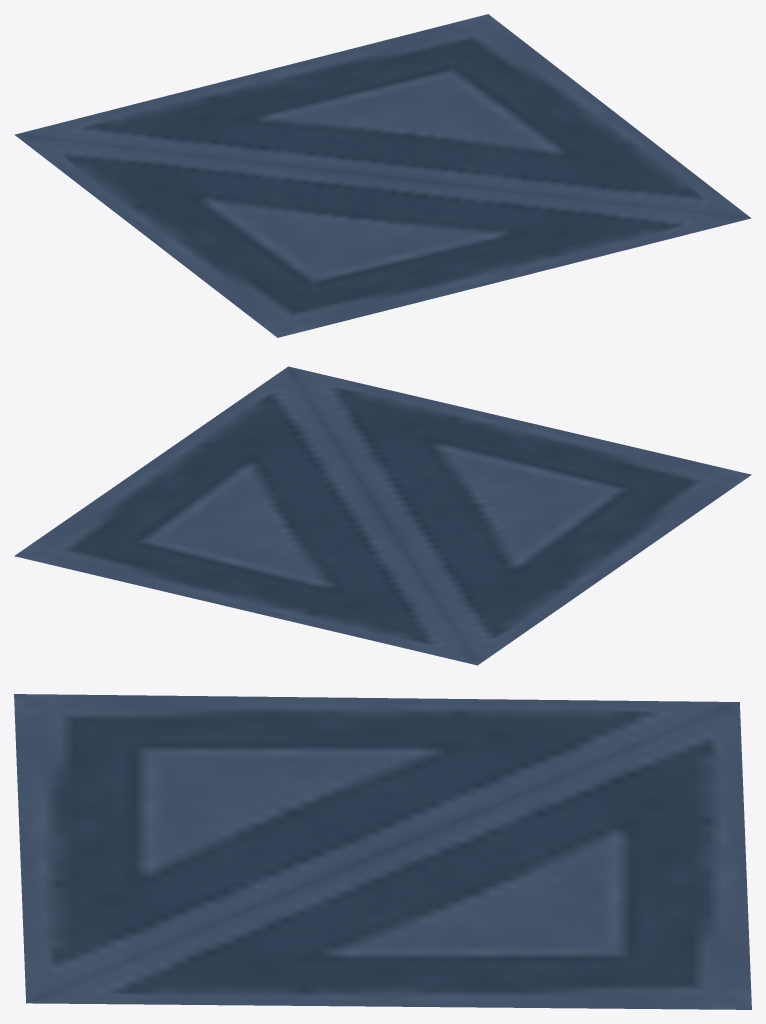
The model's file is xiaowujian_group23.fbx.
3 views of the same model, one above another, from view 1: azimuth 30°, elevation 25°; view 2: azimuth 150°, elevation 25°; view 3: azimuth 270°, elevation 25° (orthographic). The views are drawn at different scales.
Visible parts, largest first — view 1: xiaowujian_group23; view 2: xiaowujian_group23; view 3: xiaowujian_group23.
Boxes of the visible parts, bbox=[...] form: xiaowujian_group23: bbox=[14, 14, 751, 337]; xiaowujian_group23: bbox=[14, 366, 751, 665]; xiaowujian_group23: bbox=[14, 694, 751, 1009].
Size of the model in its own units: 677 by 0.7531 by 668.
1 material, 1 textured.
